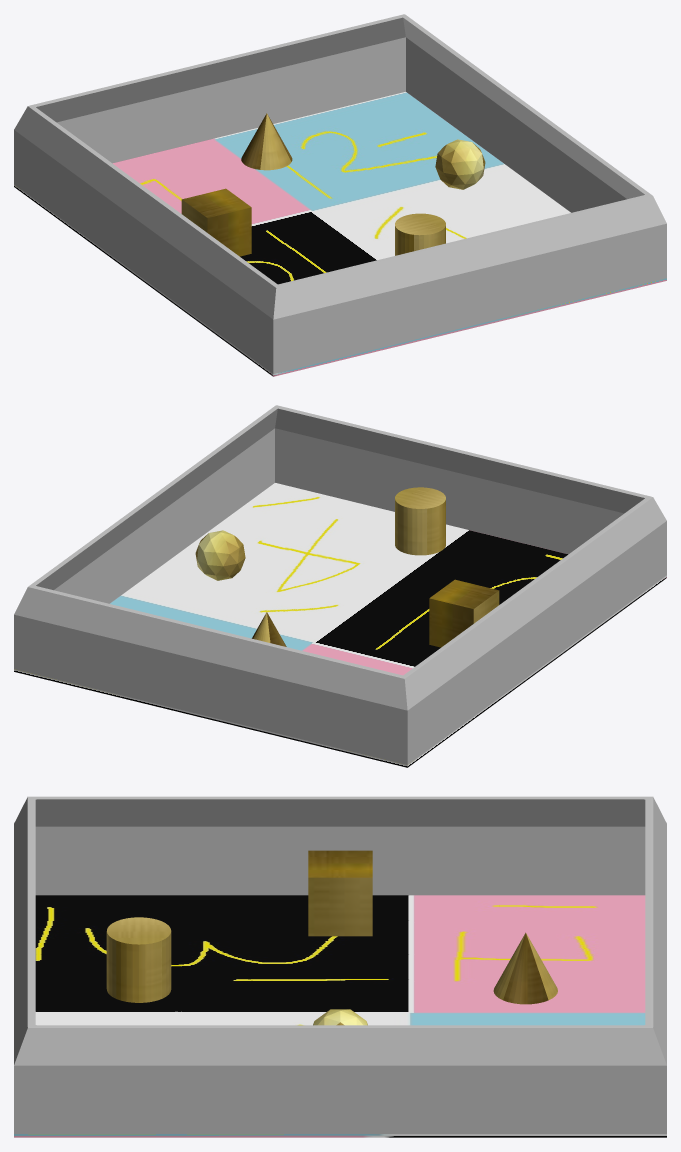
File: map1.fbx
3 views of the same model, one above another, from view 1: azimuth 30°, elevation 25°; view 2: azimuth 150°, elevation 25°; view 3: azimuth 270°, elevation 25° (orthographic). The views are drawn at different scales.
Visible parts, largest first — view 1: Cube; view 2: Cube; view 3: Cube.
Part boxes in pixels (x1,y1,x2,y2): Cube: (14, 14, 666, 376); Cube: (14, 405, 666, 767); Cube: (14, 796, 666, 1137).
Size of the model in its own units: 1774 by 357 by 2025.
